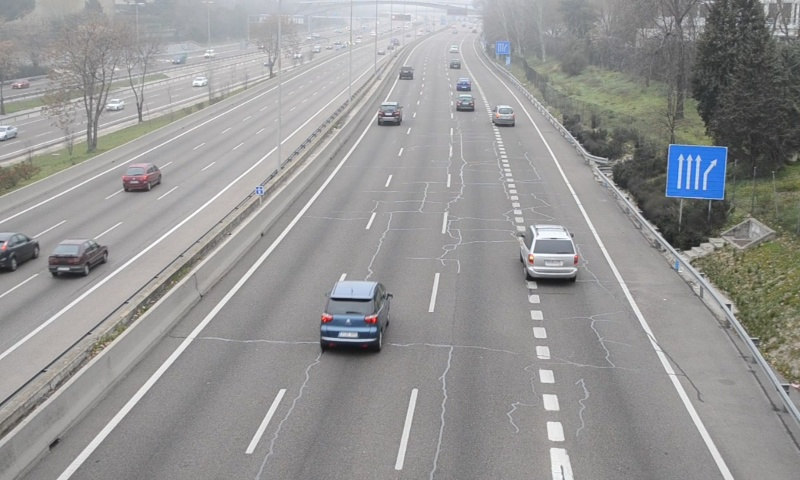car: (320, 280, 389, 349), (522, 224, 579, 278), (377, 102, 401, 127), (492, 104, 515, 126), (455, 94, 475, 113)
